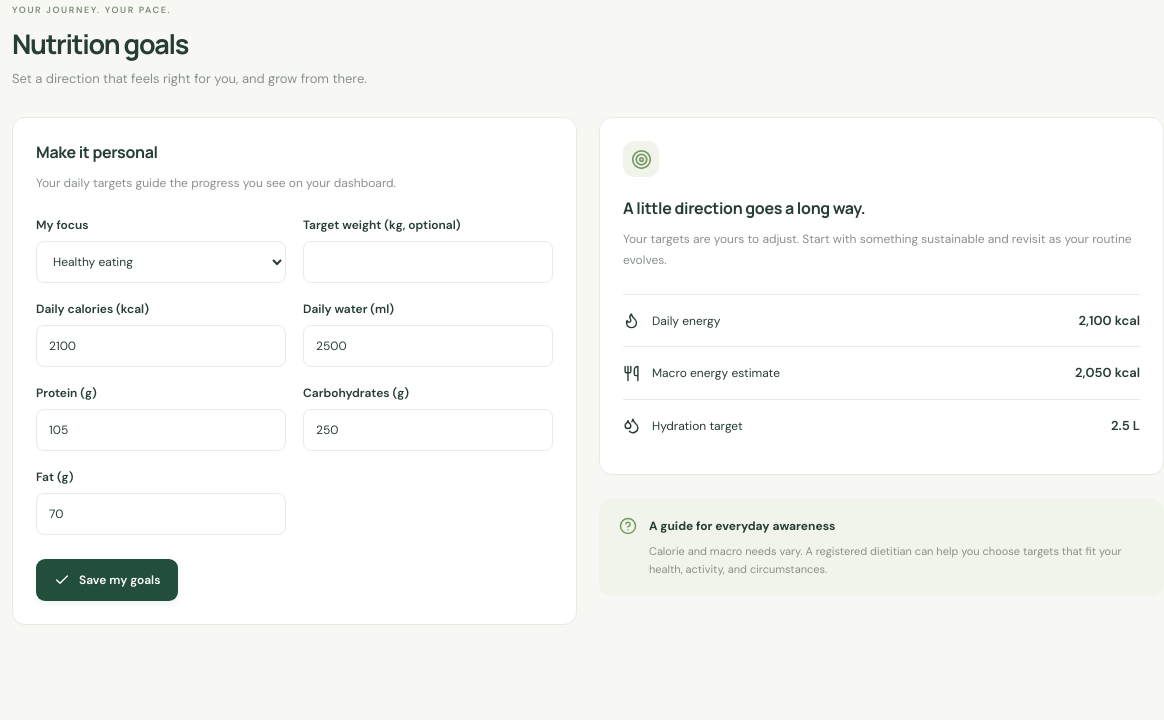
Personal nutrition targets › rejects an invalid calorie target without changing the stored goal
Replace the text in the number field labelled "Daily calories (kcal)" with "100": [161, 346] box [36, 325, 286, 367]
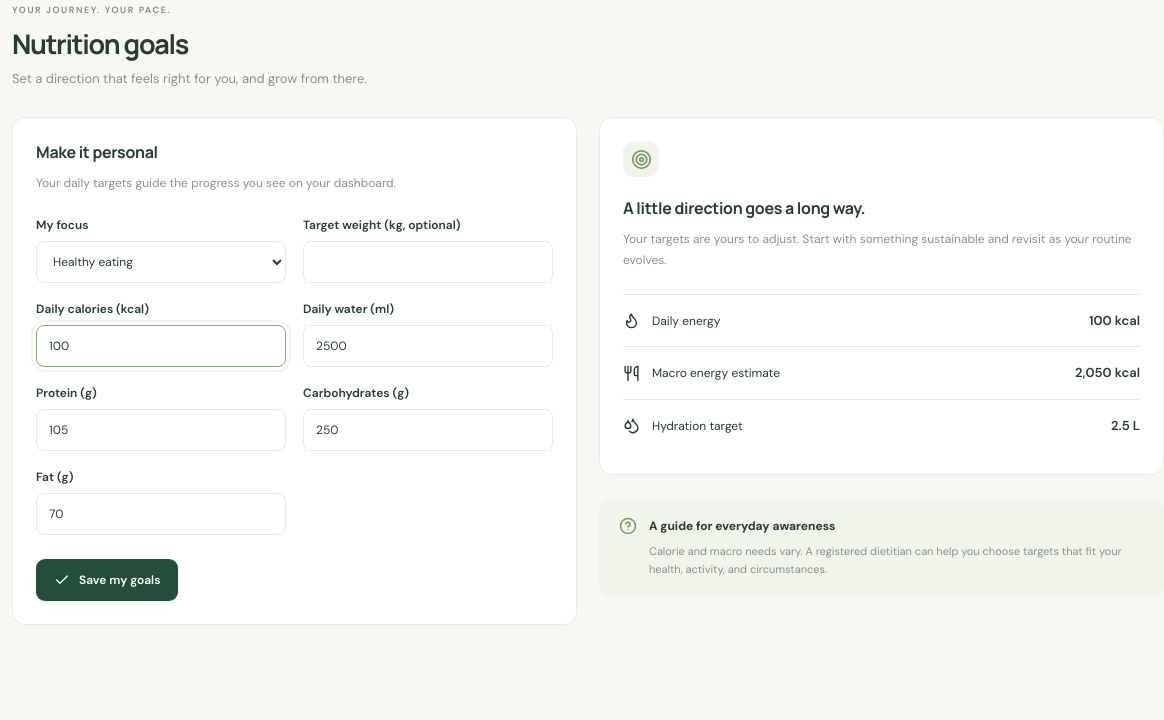
Click the button "Save my goals": [107, 580] box [36, 559, 178, 601]
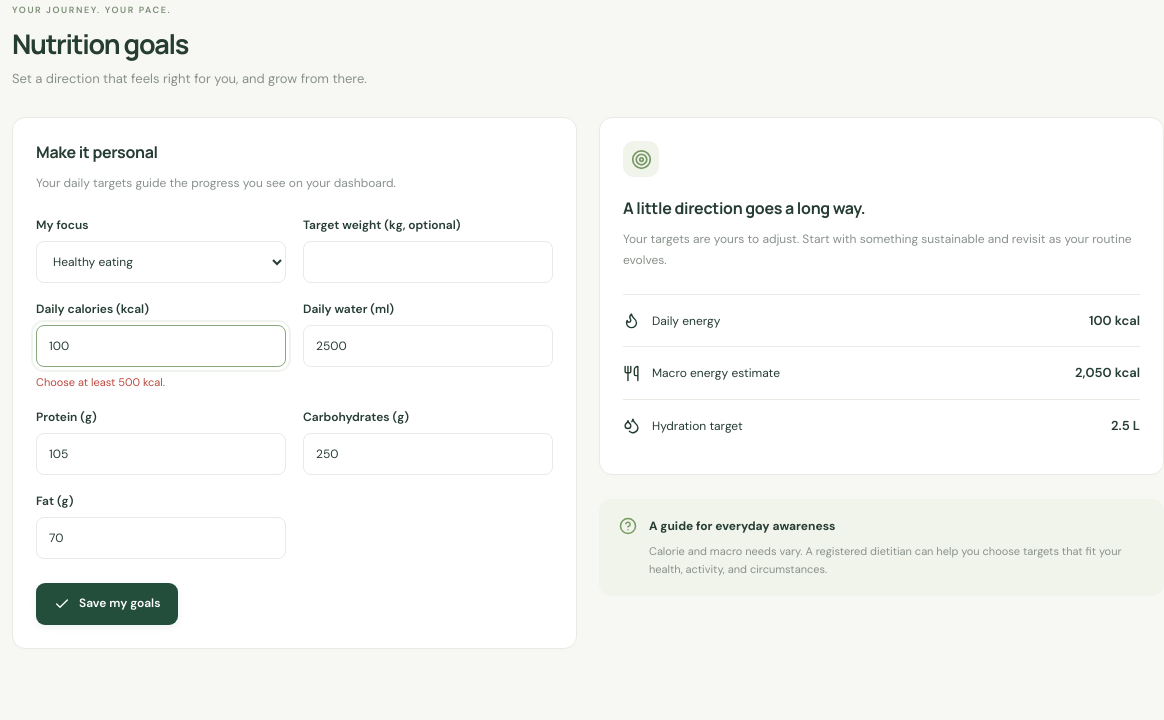
Now the text "Choose at least 500 kcal." is shown, box [36, 375, 165, 389]
